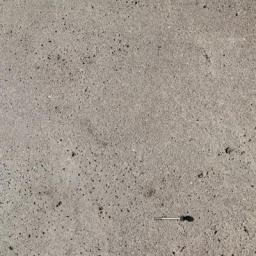FOD: (152, 212, 196, 225)
